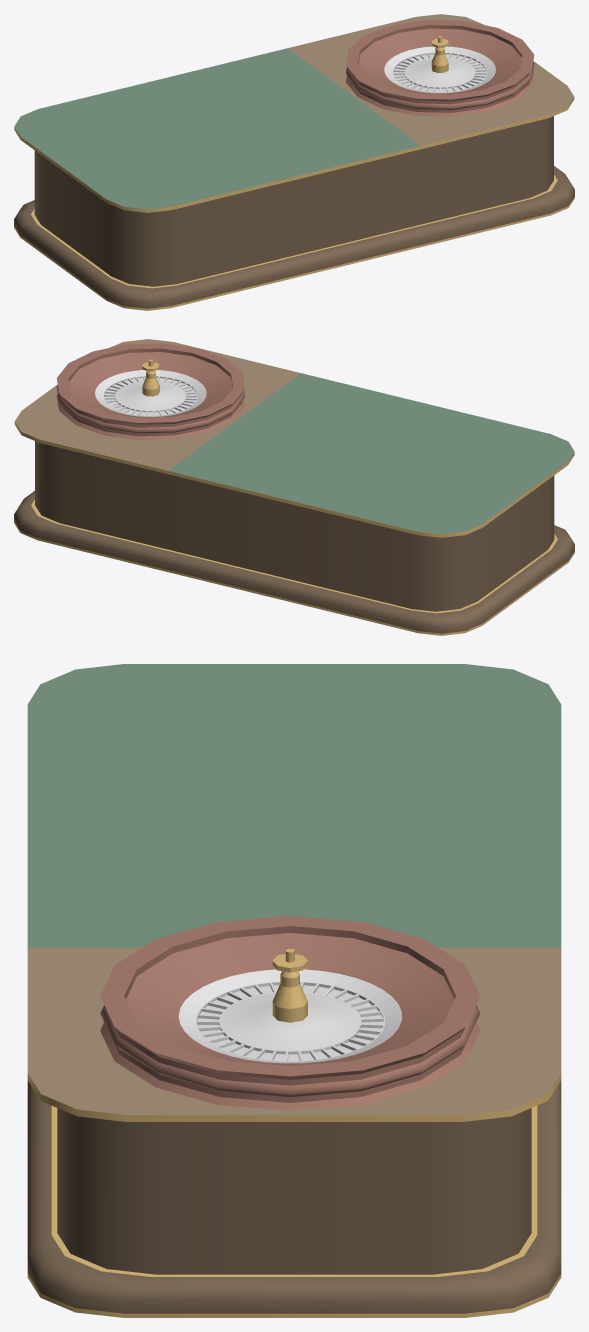
Rendered from roulette.fbx.
3 renders of one model, top to bottom at view 1: azimuth 30°, elevation 25°; view 2: azimuth 150°, elevation 25°; view 3: azimuth 270°, elevation 25°, orthographic. The views are drawn at different scales.
Parts seen in each view (by area): view 1: roulette_table, roulette; view 2: roulette_table, roulette; view 3: roulette_table, roulette.
Part boxes in pixels (left/top/right/bottom): roulette_table: left=14, top=14, right=574, bottom=310; roulette: left=384, top=36, right=495, bottom=93; roulette_table: left=14, top=339, right=574, bottom=635; roulette: left=95, top=359, right=206, bottom=416; roulette_table: left=27, top=664, right=561, bottom=1317; roulette: left=178, top=948, right=401, bottom=1063.
Bounding box in the file's own units: 420 × 123 × 210.
